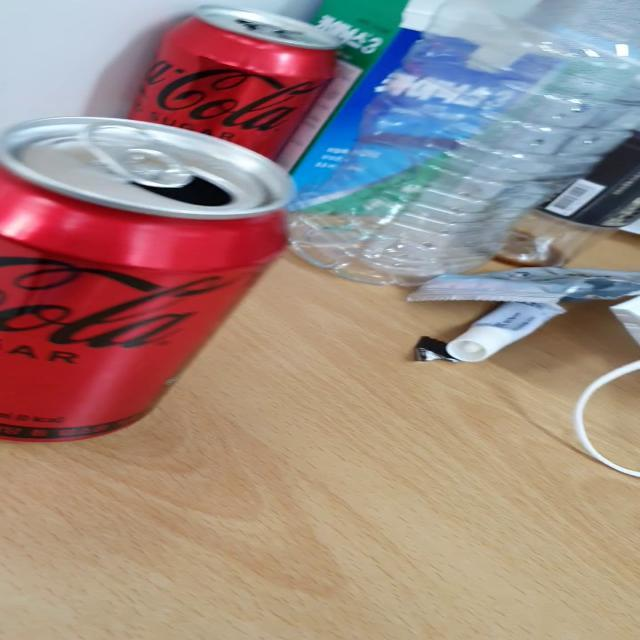coca-cola: (0, 113, 304, 465), (120, 0, 360, 172)
